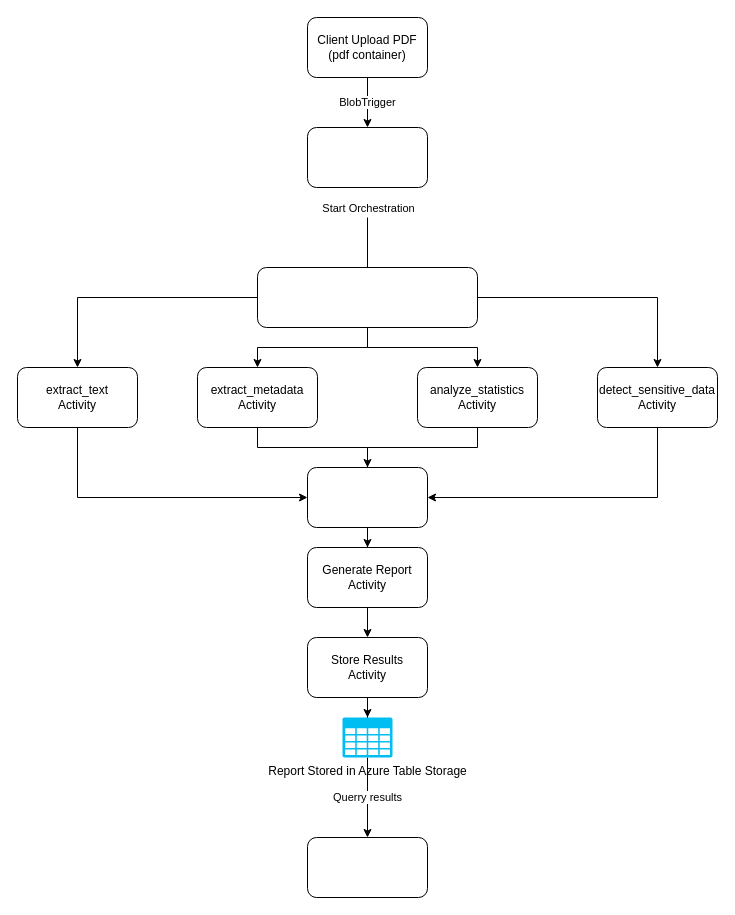
This 735x915 diagram has some shape labels left out. The centre of each missing label's shape, as x and y in pixels:
"BlobTrigger Client Function" belongs at [367,157].
"Fan-In Wait For All Results" belongs at [367,497].
"get_results HttpFunction" belongs at [367,867].
"pdf_analyzer_orchestrator" belongs at [367,297].
